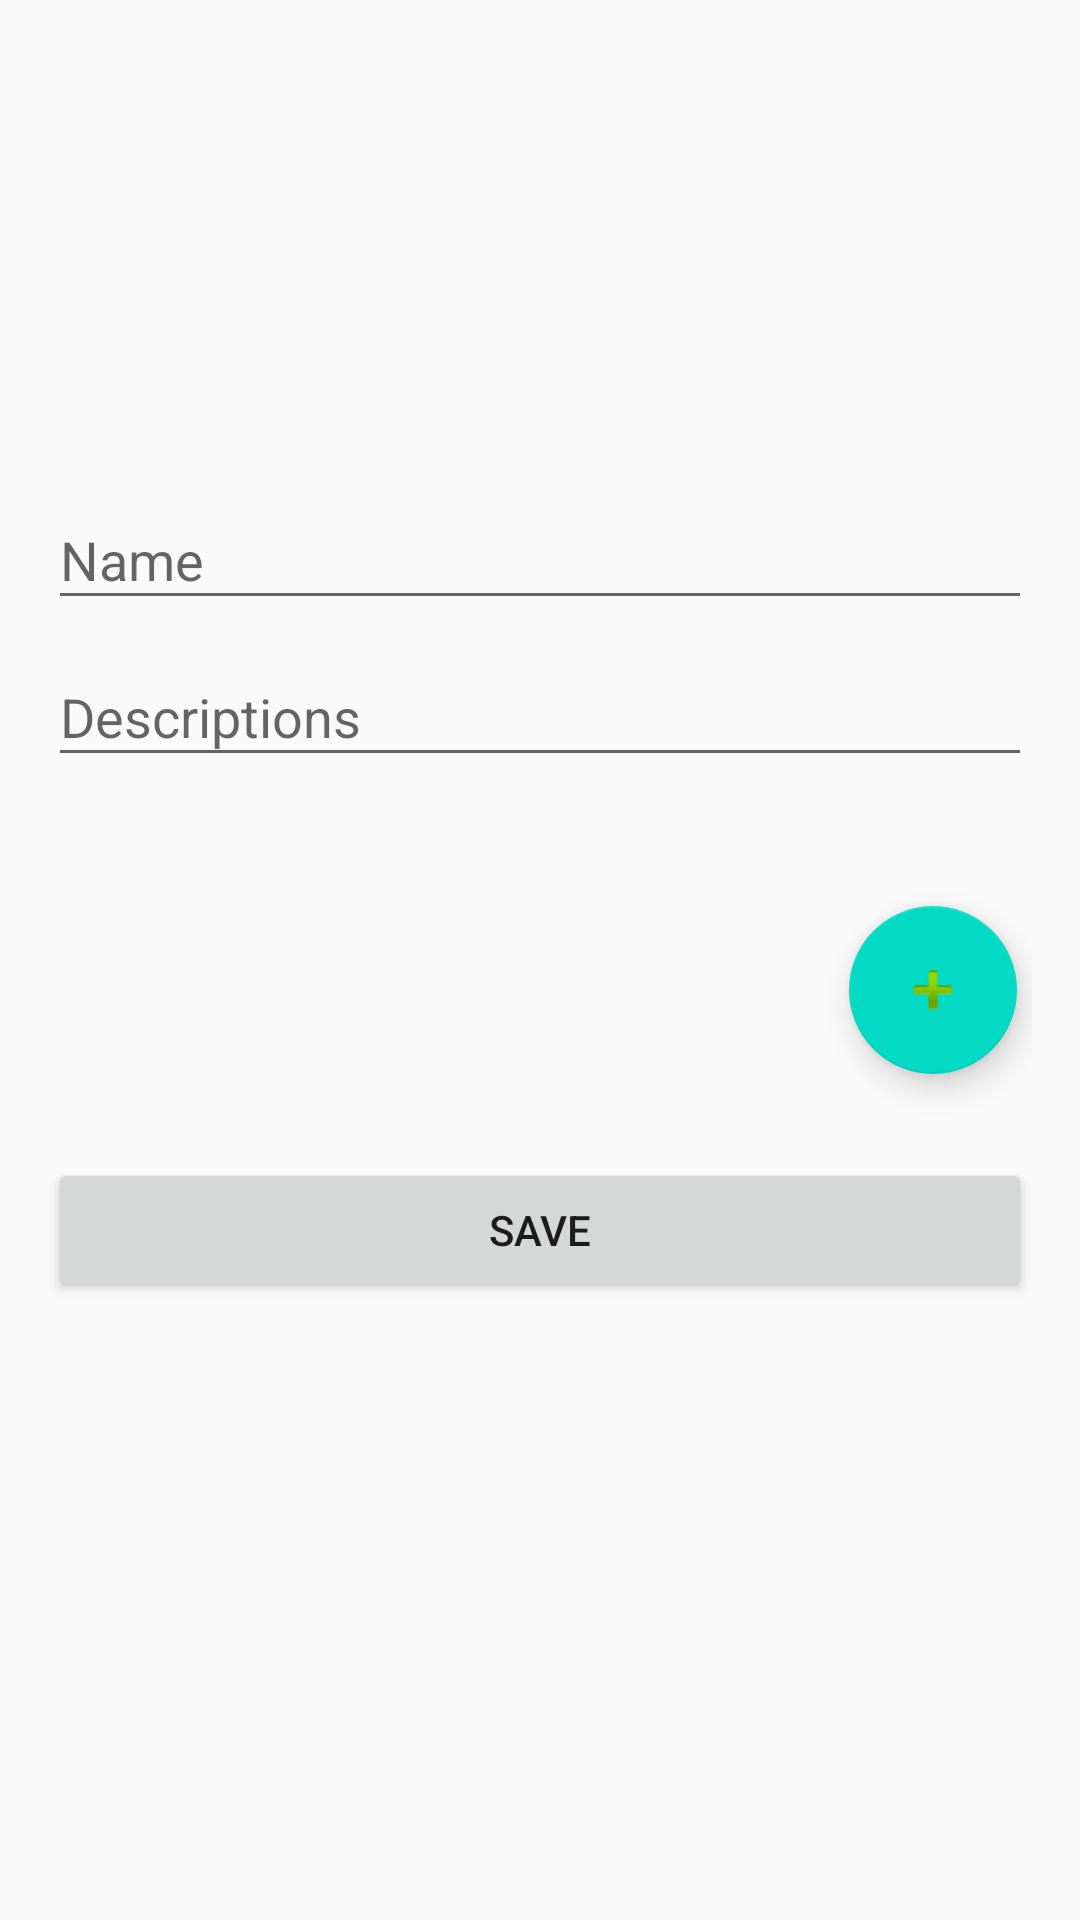

Locate icon controls on the screen. Image size 1080w x 1920h, boxes as (x1, y1, x2, y2).
add: (849, 906, 1017, 1074)
